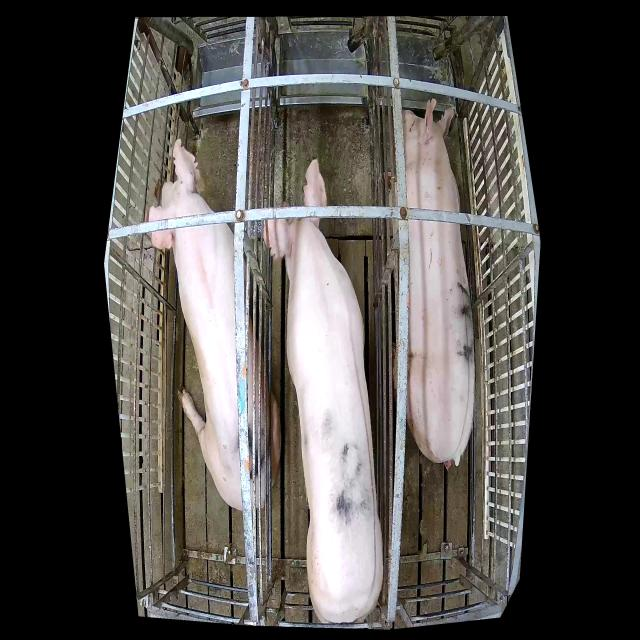pig: (262, 159, 383, 623), (143, 137, 280, 513), (402, 98, 475, 468)
